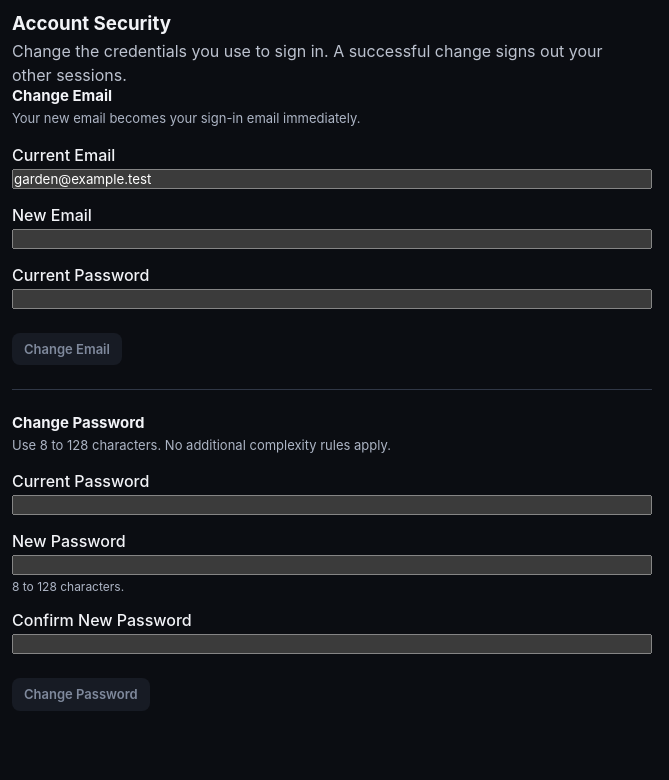
Scenario: Account Security settings › maps an email failure without leaking internals and clears its password
Type " New.Identity@Example.TEST " into the field labelled "New Email" at (332, 238), box top-left (12, 228), bottom-right (652, 248)
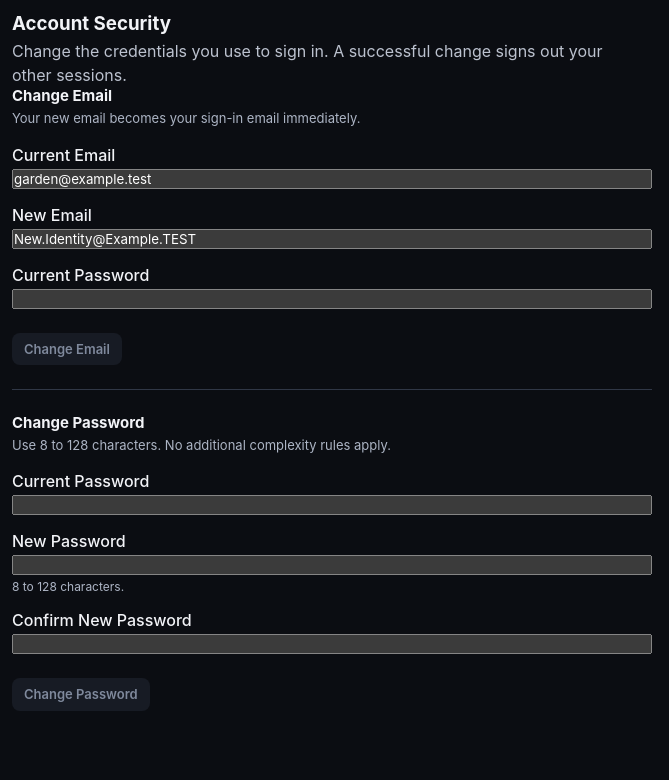
Type "current-password" into the password field labelled "Current Password" below "Current Email" at (332, 298), box top-left (12, 288), bottom-right (652, 308)
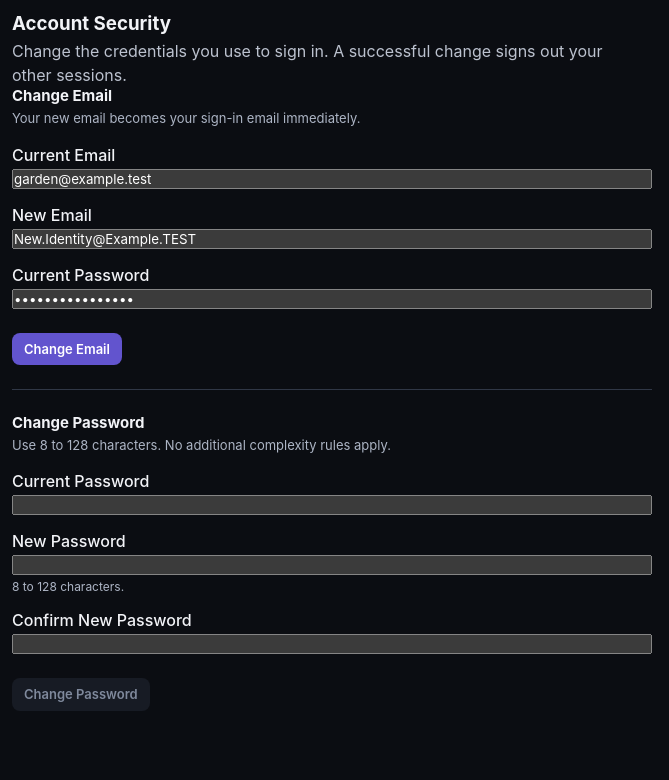
Click the button "Change Email" at (67, 349), box top-left (12, 332), bottom-right (122, 365)
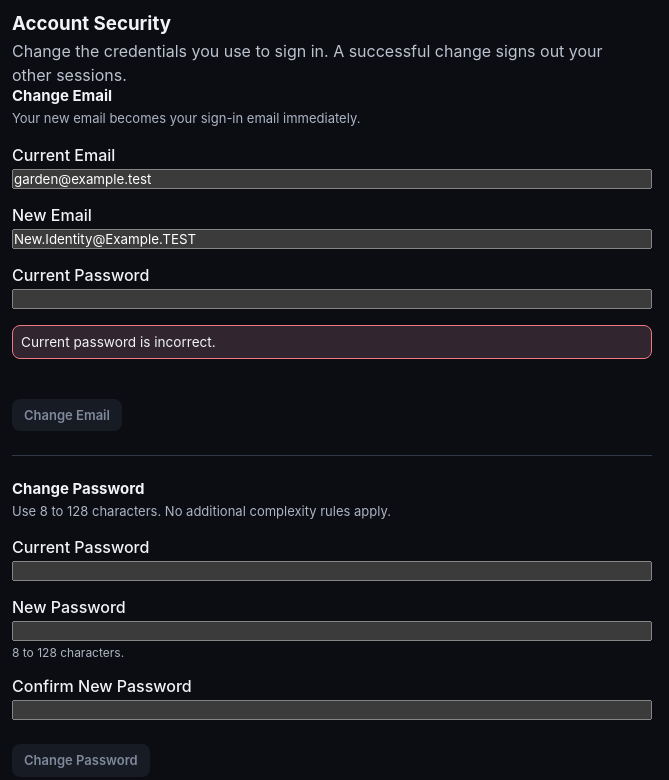
Result: the message shows "Current password is incorrect" at top-left (21, 334), bottom-right (216, 350)
Result: the password field labelled "Current Password" below "Current Email" is empty at top-left (12, 288), bottom-right (652, 308)
